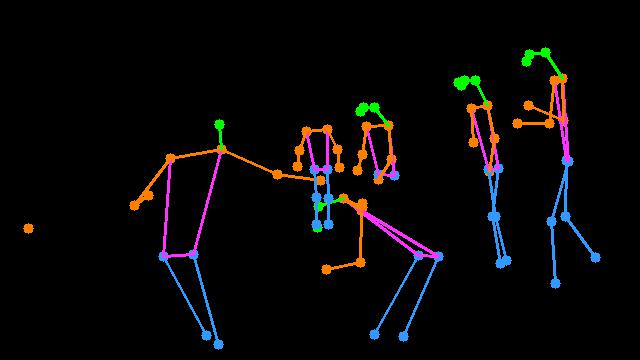normal: (510, 32, 606, 301), (450, 70, 516, 270), (348, 93, 412, 195)
